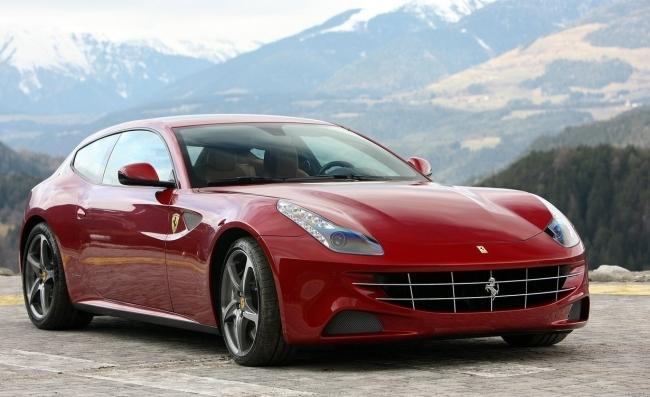car: (17, 107, 612, 371)
